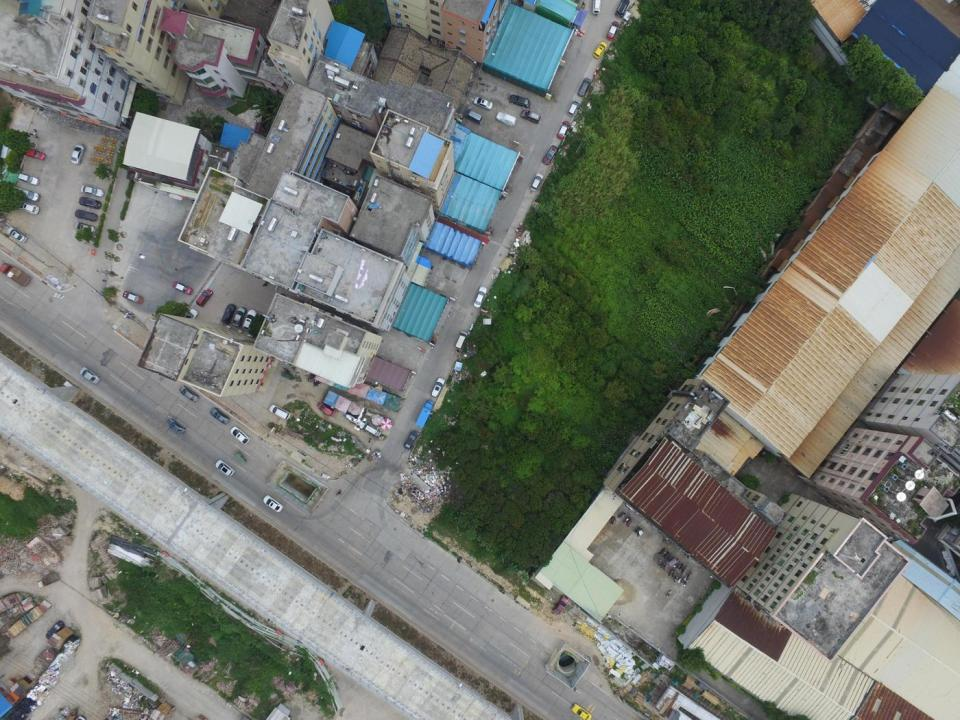car: (262, 494, 285, 513), (45, 619, 65, 640), (178, 384, 200, 403), (230, 426, 250, 446), (79, 366, 101, 384), (214, 458, 234, 477), (209, 407, 230, 425), (570, 703, 592, 720), (268, 404, 291, 420), (79, 184, 105, 198), (614, 0, 633, 19), (194, 288, 212, 308), (473, 285, 488, 309), (70, 144, 86, 166), (166, 417, 185, 435), (7, 226, 27, 243), (316, 400, 336, 417), (552, 594, 569, 614), (172, 280, 193, 296), (403, 429, 419, 450), (232, 306, 247, 328), (180, 308, 198, 326), (508, 94, 531, 108), (496, 111, 516, 127), (78, 196, 102, 209), (17, 201, 39, 215), (543, 146, 558, 166), (472, 96, 492, 111), (74, 208, 97, 221), (73, 221, 96, 234), (122, 290, 144, 303), (243, 308, 256, 330), (222, 304, 236, 324), (431, 377, 445, 397), (577, 77, 591, 97), (592, 41, 607, 59), (24, 148, 46, 160), (531, 172, 544, 191), (557, 120, 570, 139), (606, 21, 619, 40), (566, 99, 579, 116), (591, 0, 601, 14)
truck: (0, 262, 31, 288), (414, 399, 435, 428), (36, 572, 60, 588)
van: (11, 185, 40, 202), (520, 108, 542, 124), (464, 108, 483, 124), (455, 330, 468, 349), (18, 173, 40, 184)
